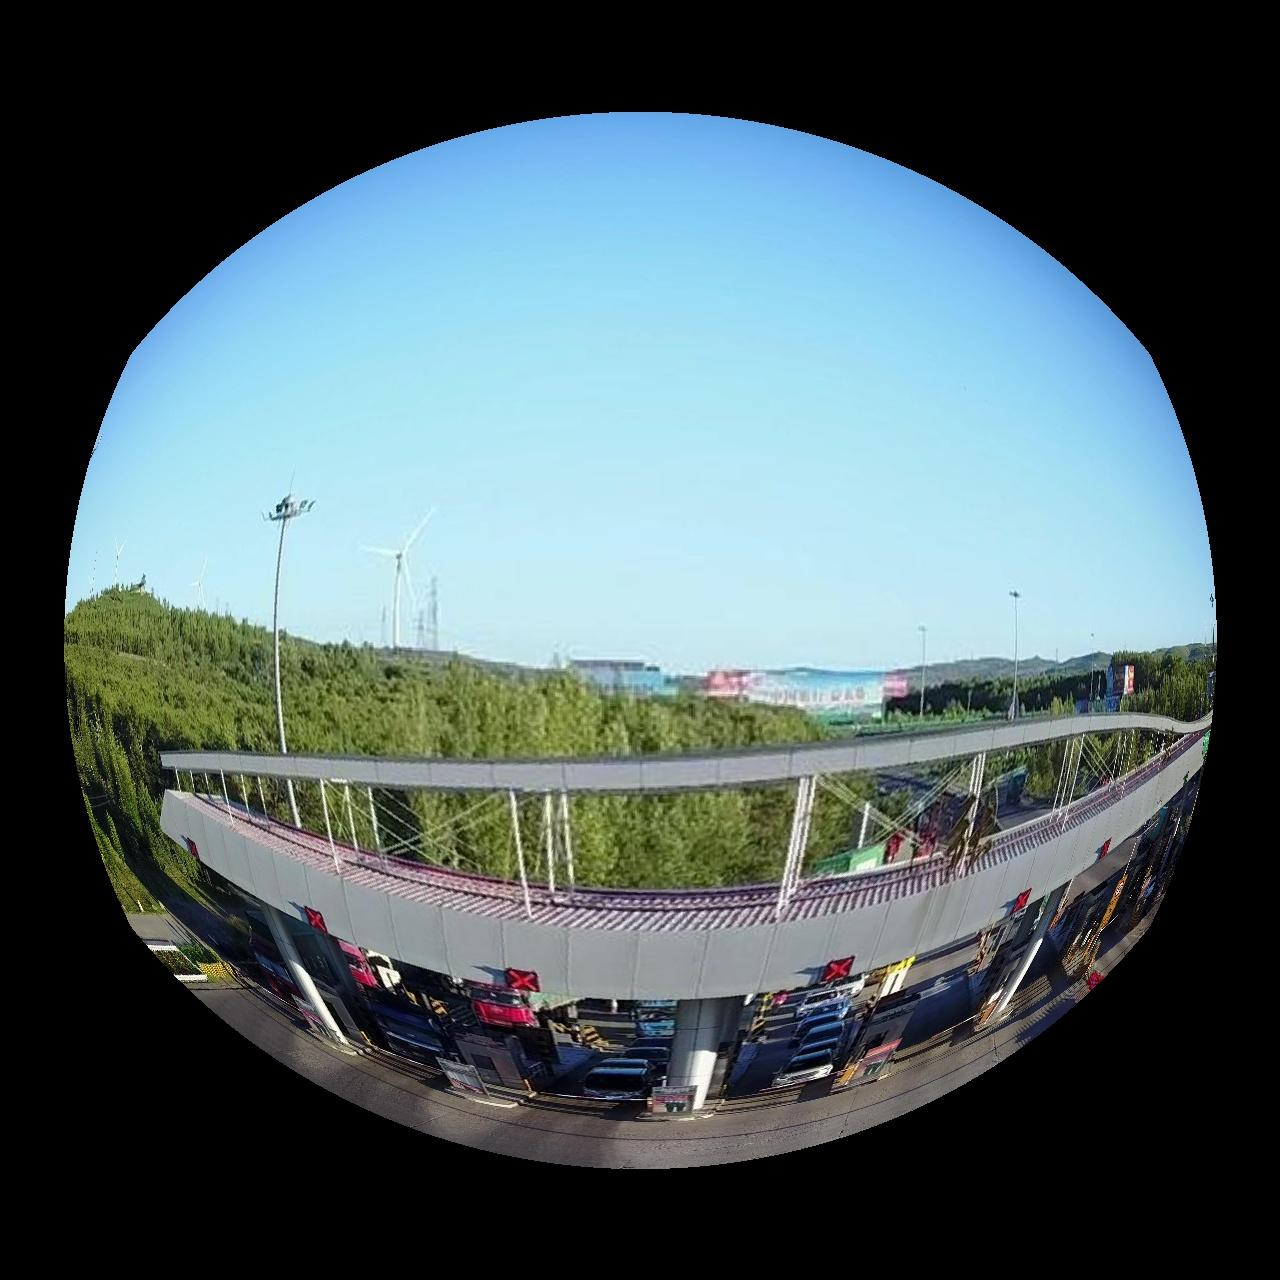building: (159, 714, 1208, 1137)
trees: (64, 588, 273, 912), (281, 636, 813, 758), (570, 789, 791, 890), (1021, 646, 1218, 721), (376, 791, 518, 880), (926, 662, 1015, 722), (888, 669, 921, 726)
